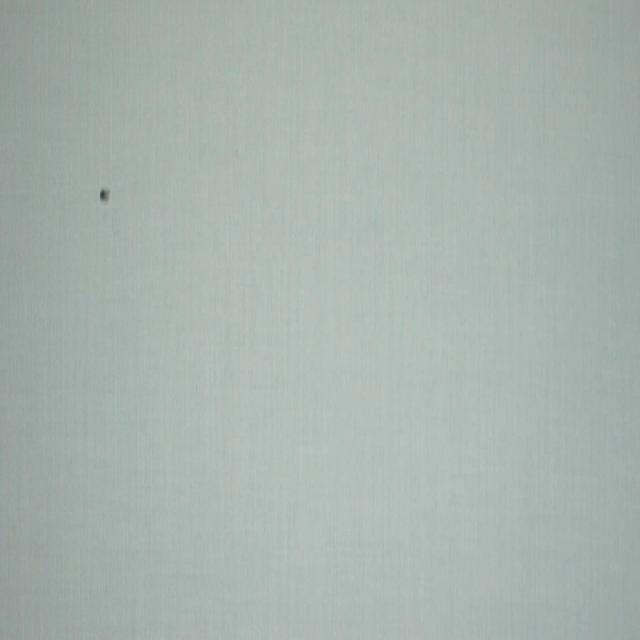dirty: (99, 187, 111, 202)
